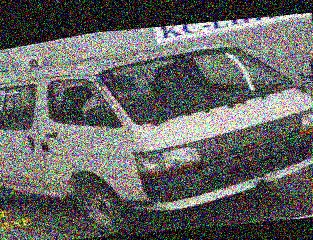van: (0, 17, 313, 240)
